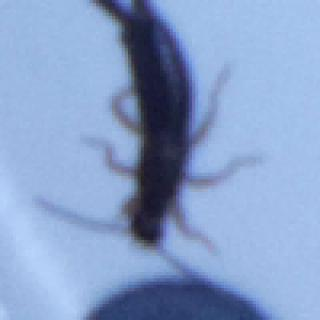earwig: (30, 0, 262, 284)
